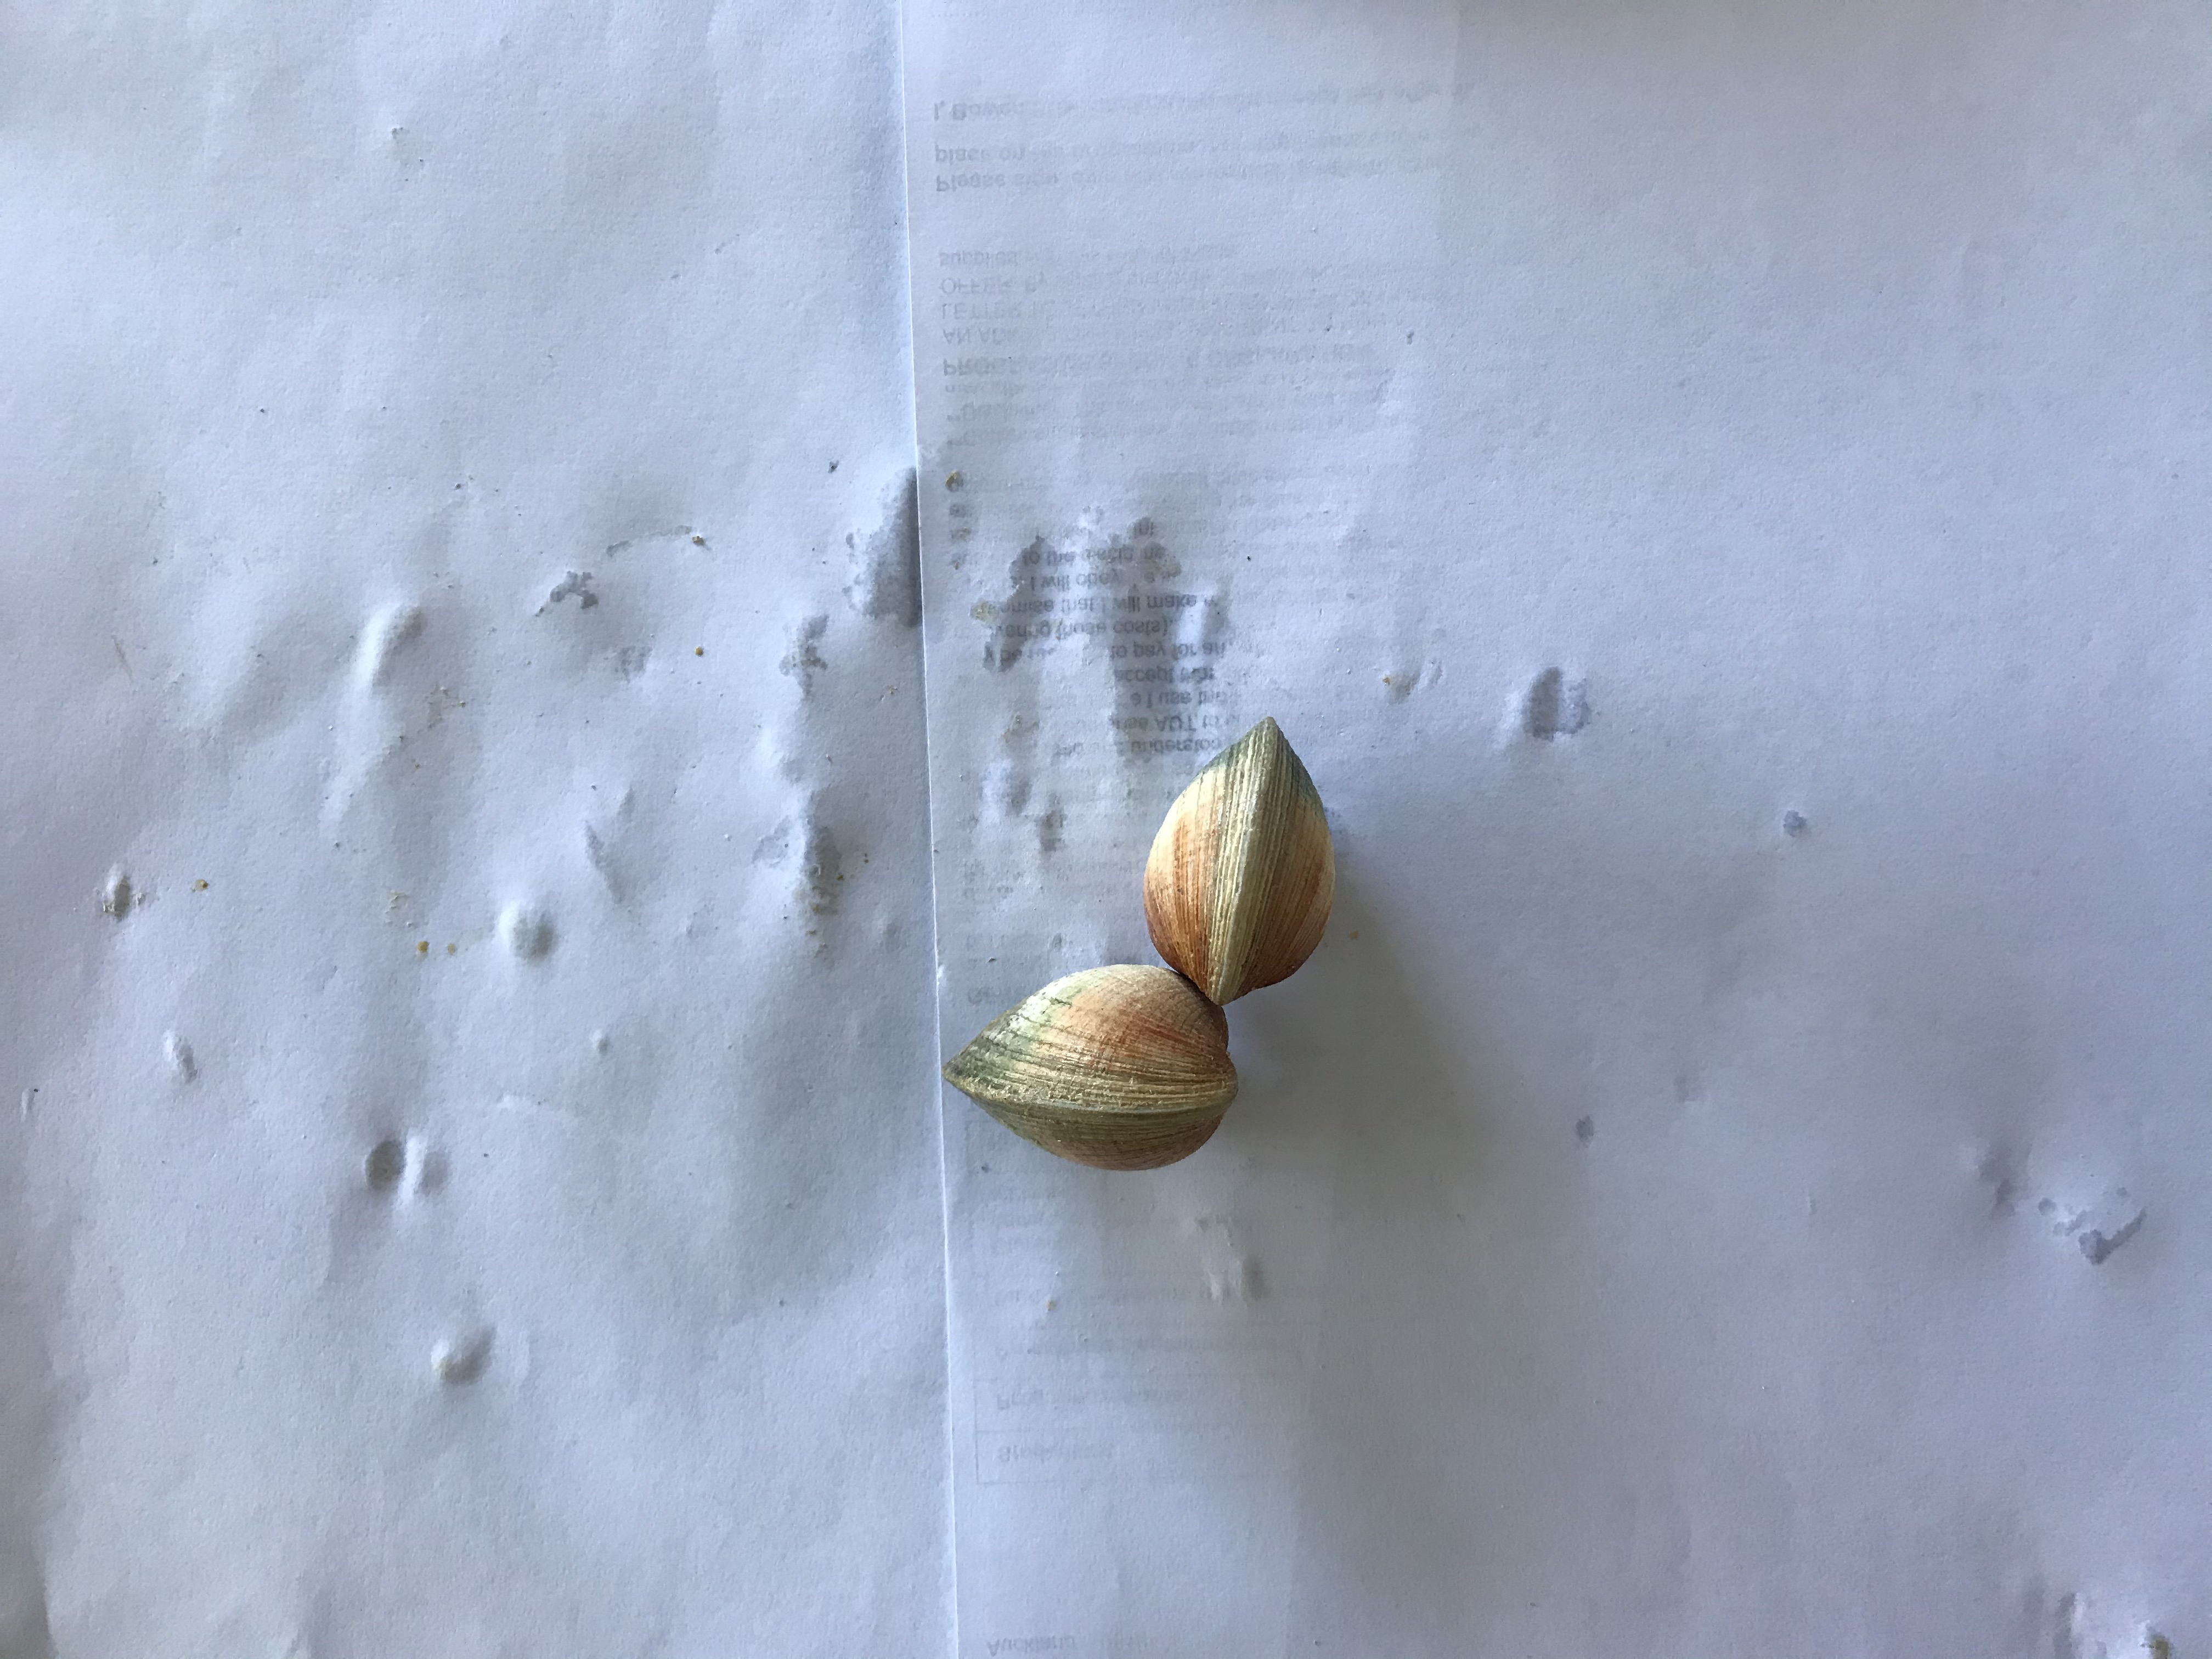cockle: (941, 965, 1247, 1180), (1134, 709, 1338, 1009)
